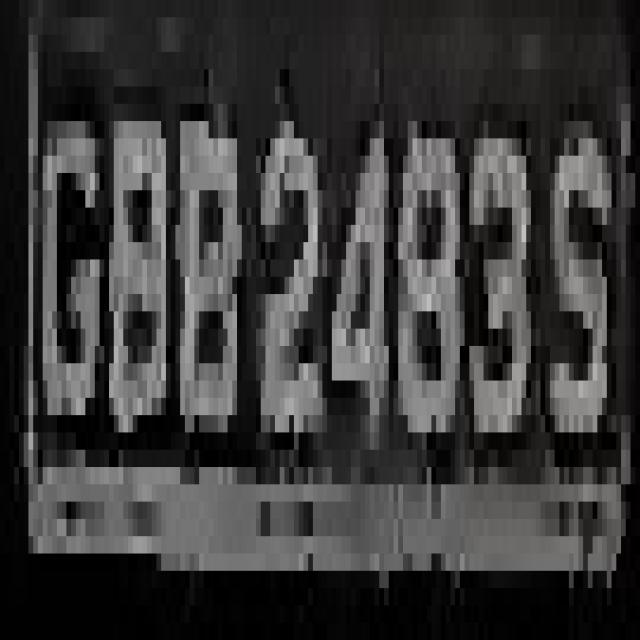2: (247, 70, 327, 484)
3: (460, 69, 536, 450)
4: (322, 52, 398, 467)
8: (394, 104, 464, 467)
B: (161, 104, 256, 484), (104, 69, 171, 502)
G: (33, 104, 104, 502)
S: (536, 104, 616, 502)
